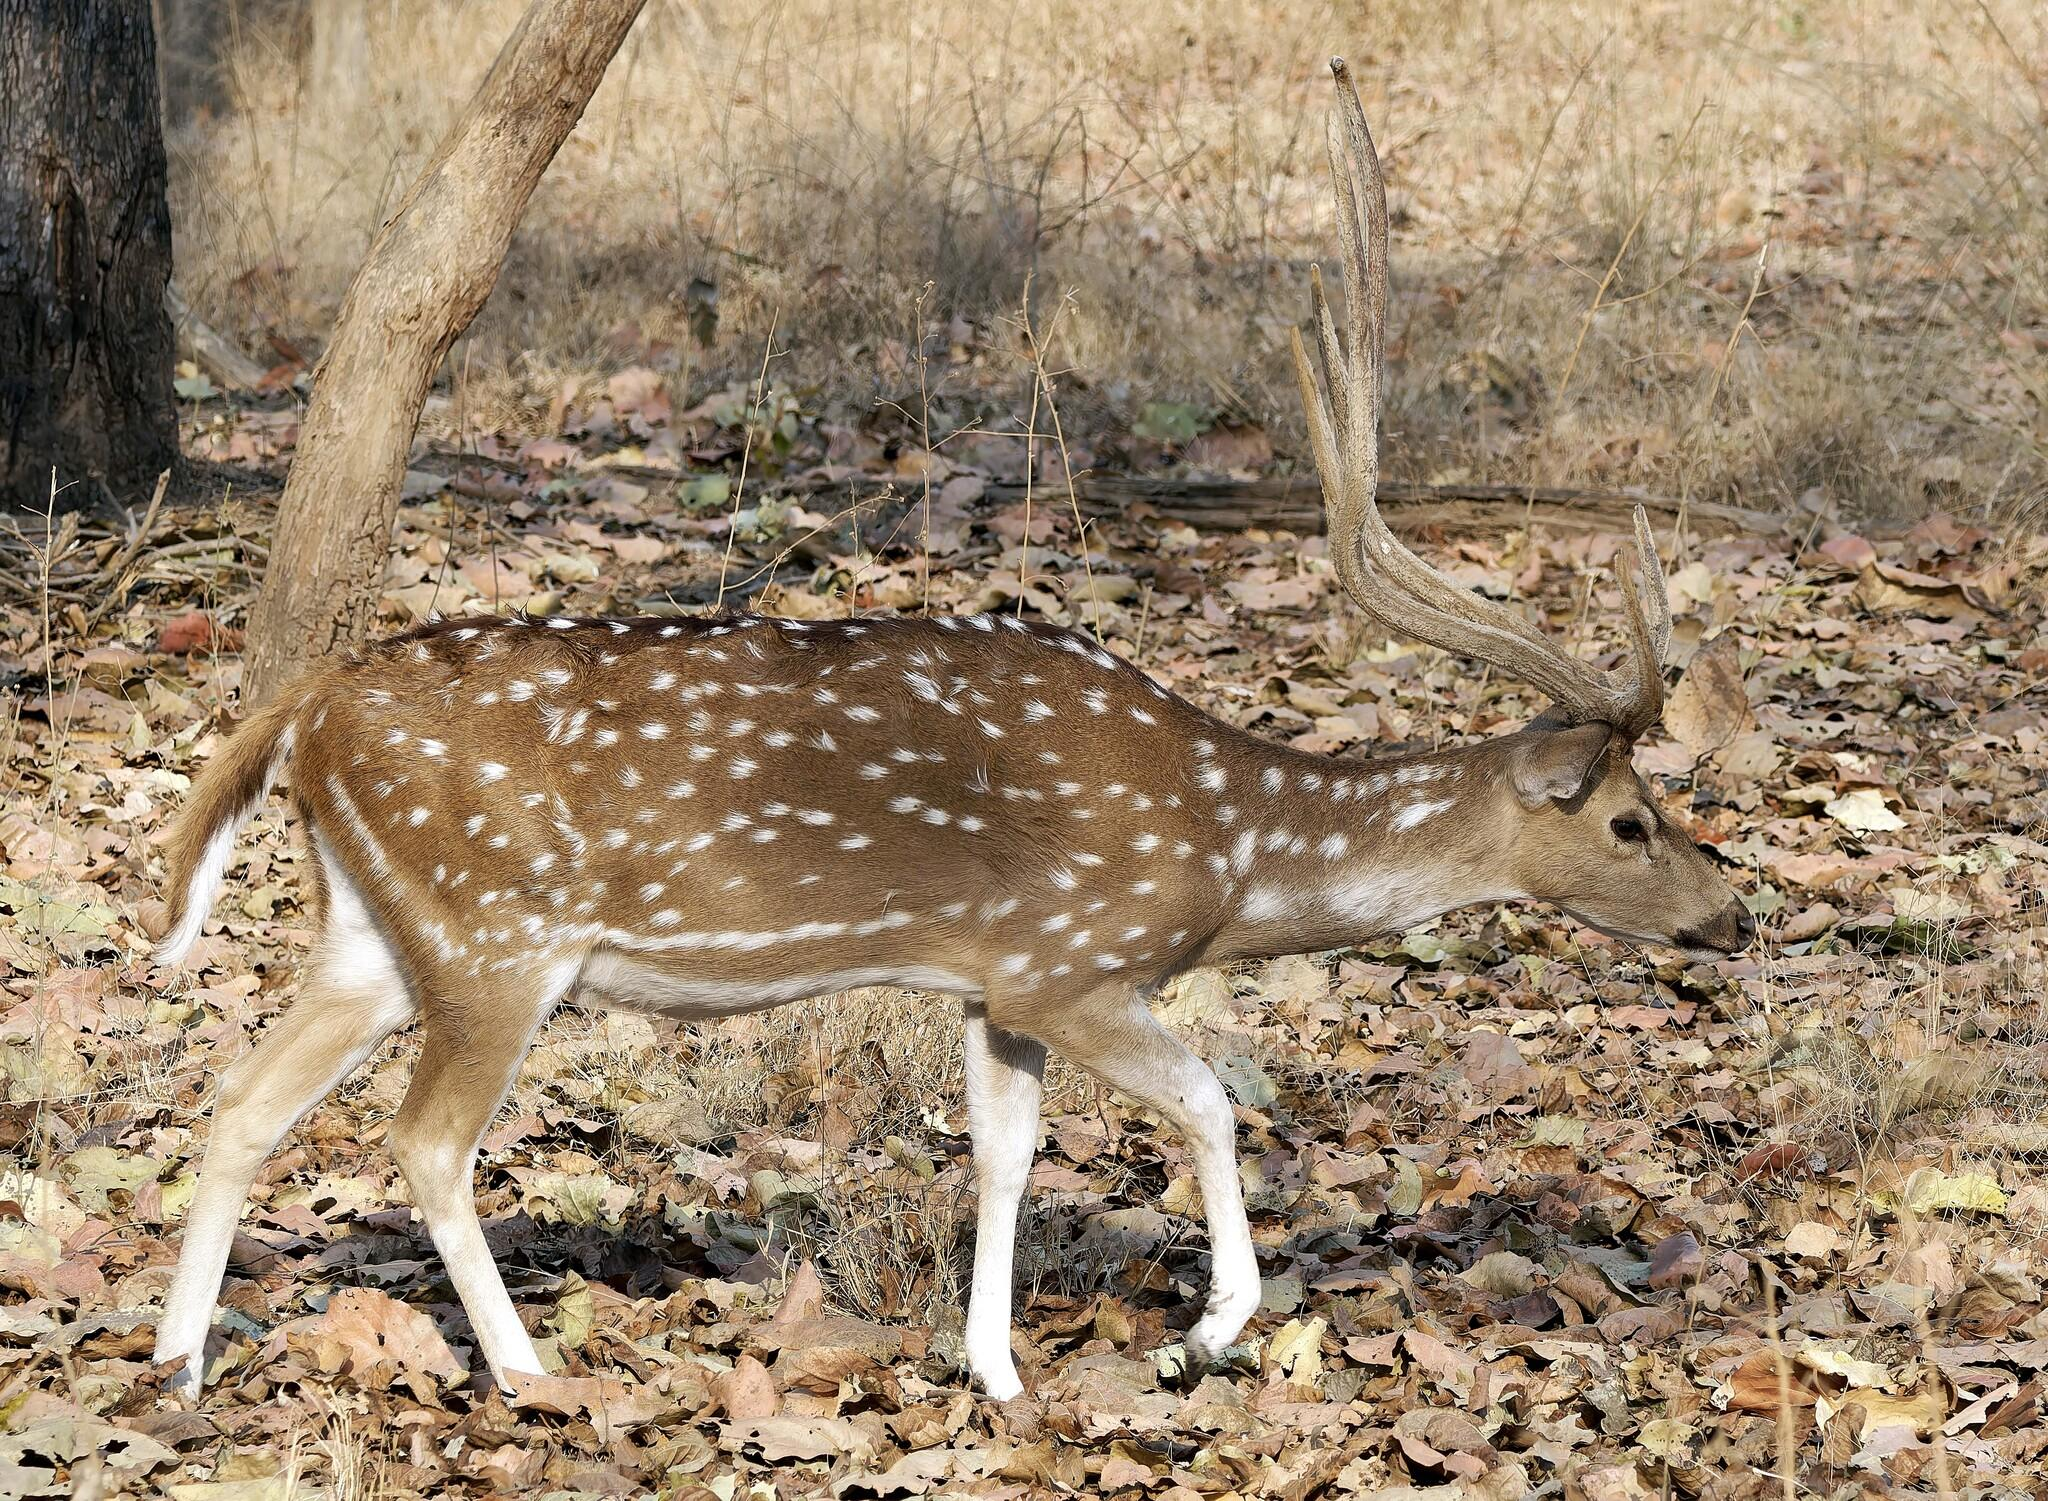Deer: (157, 57, 1744, 1398)
